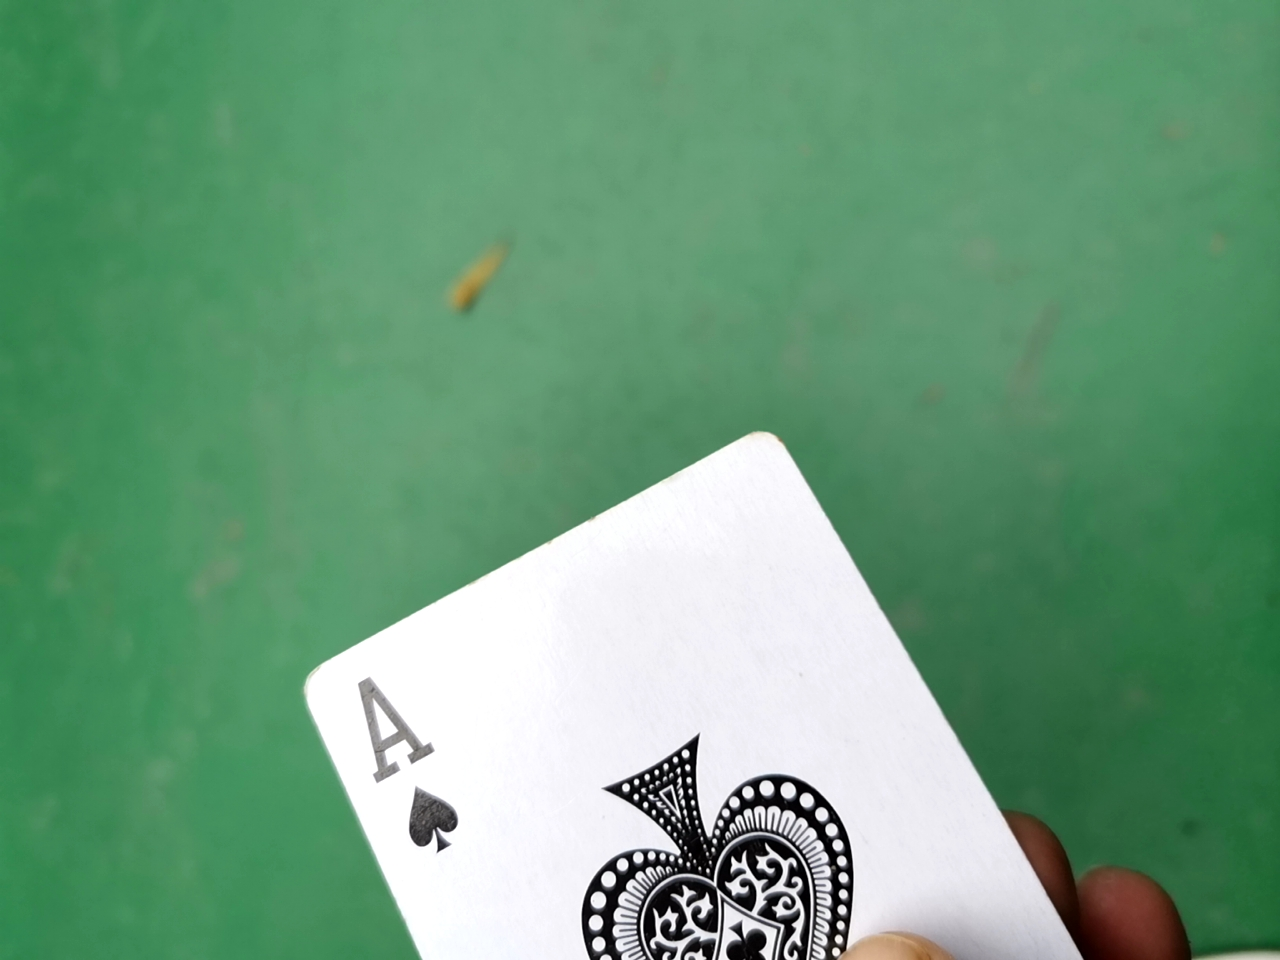ht a: (278, 424, 1265, 958)
